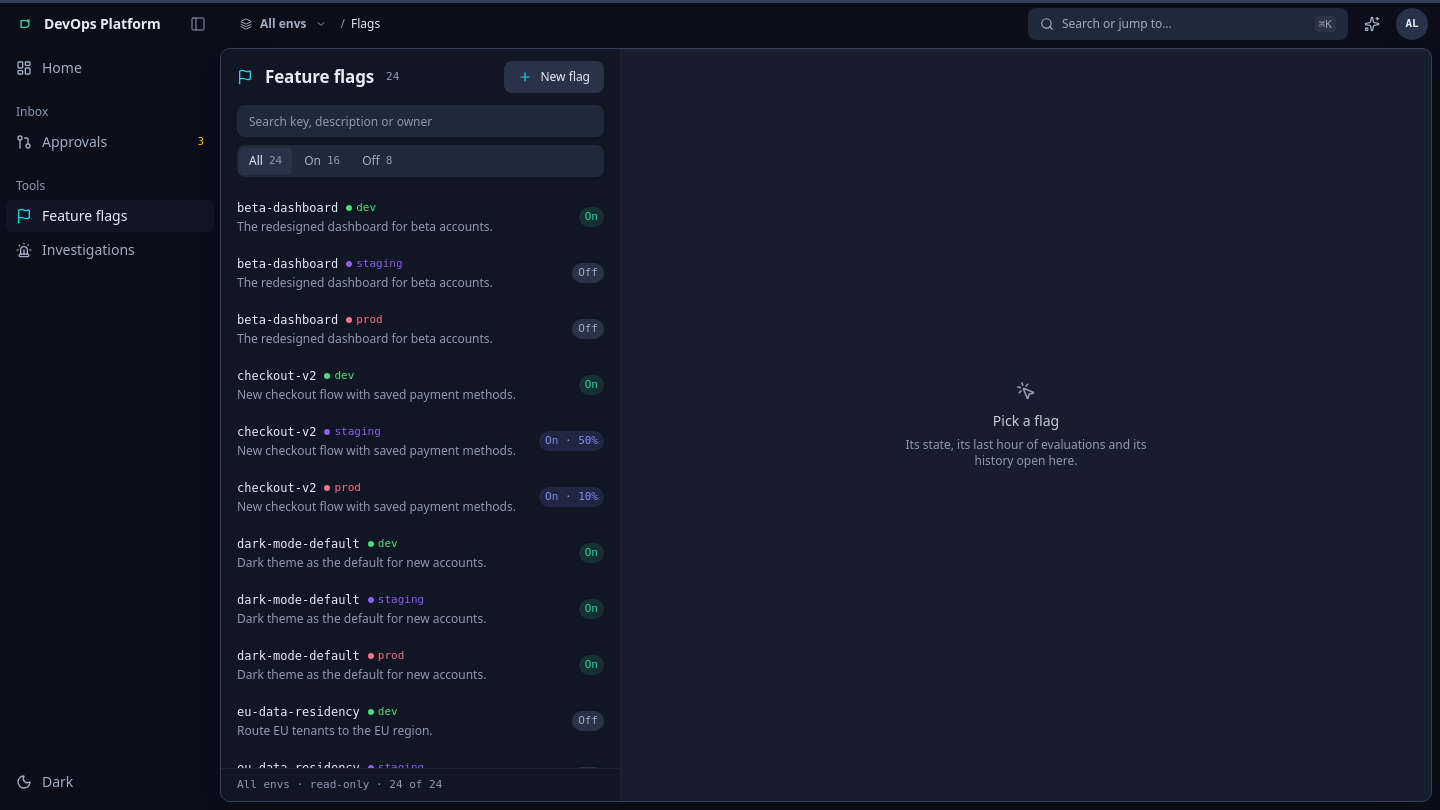
it: the flags list › keeps the search and the state filter in the URL
The width and height of the screenshot is (1440, 810).
Type "dark" into the search field named "Search flags". click: {"x": 420, "y": 121}
box: [237,105,604,137]
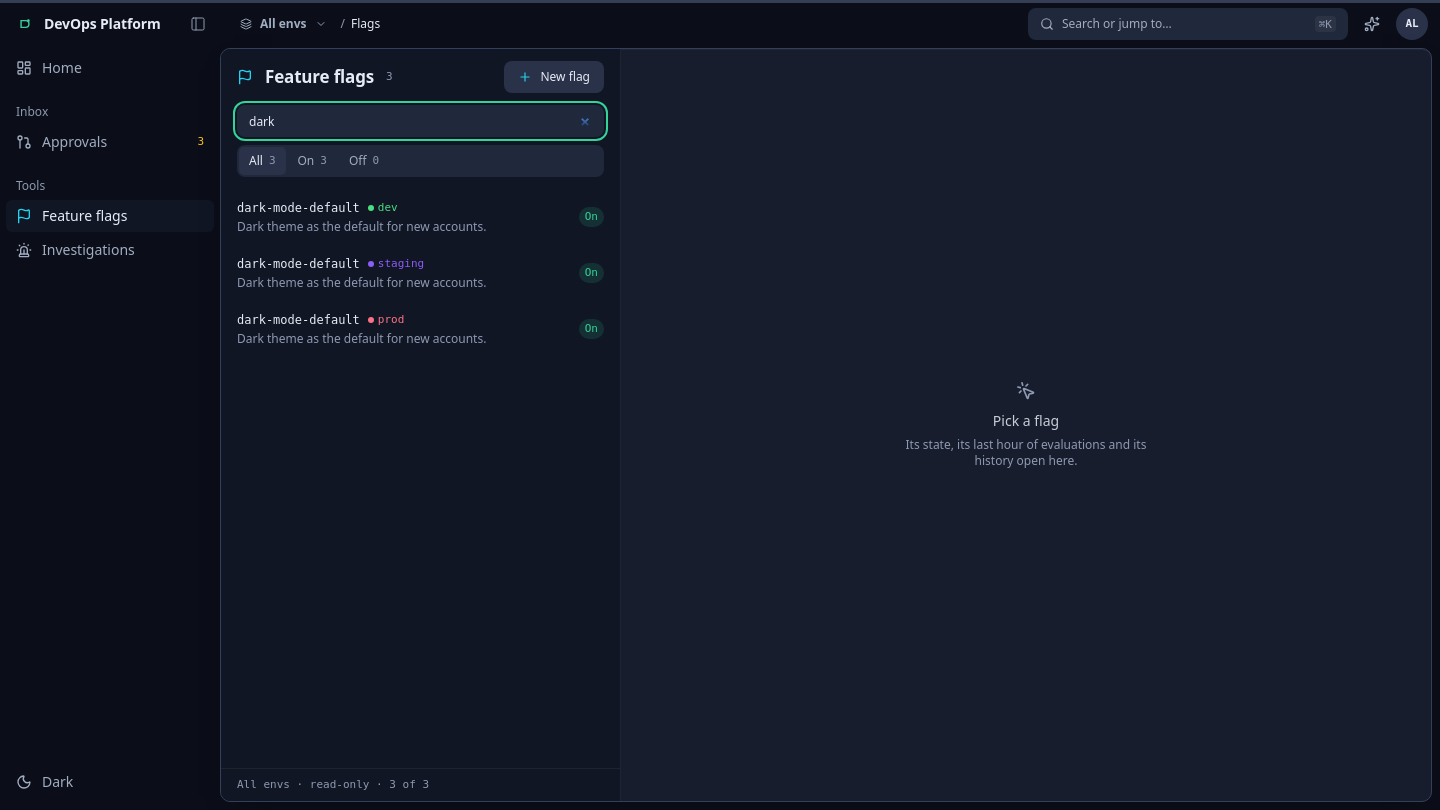
Check: no links "checkout-v2" are shown
Check: the text "dark-mode-default" is shown 3 times, box [237,199,360,217]; [237,255,360,273]; [237,311,360,329]
Clear the search field named "Search flags". click: {"x": 420, "y": 121}
box: [237,105,604,137]
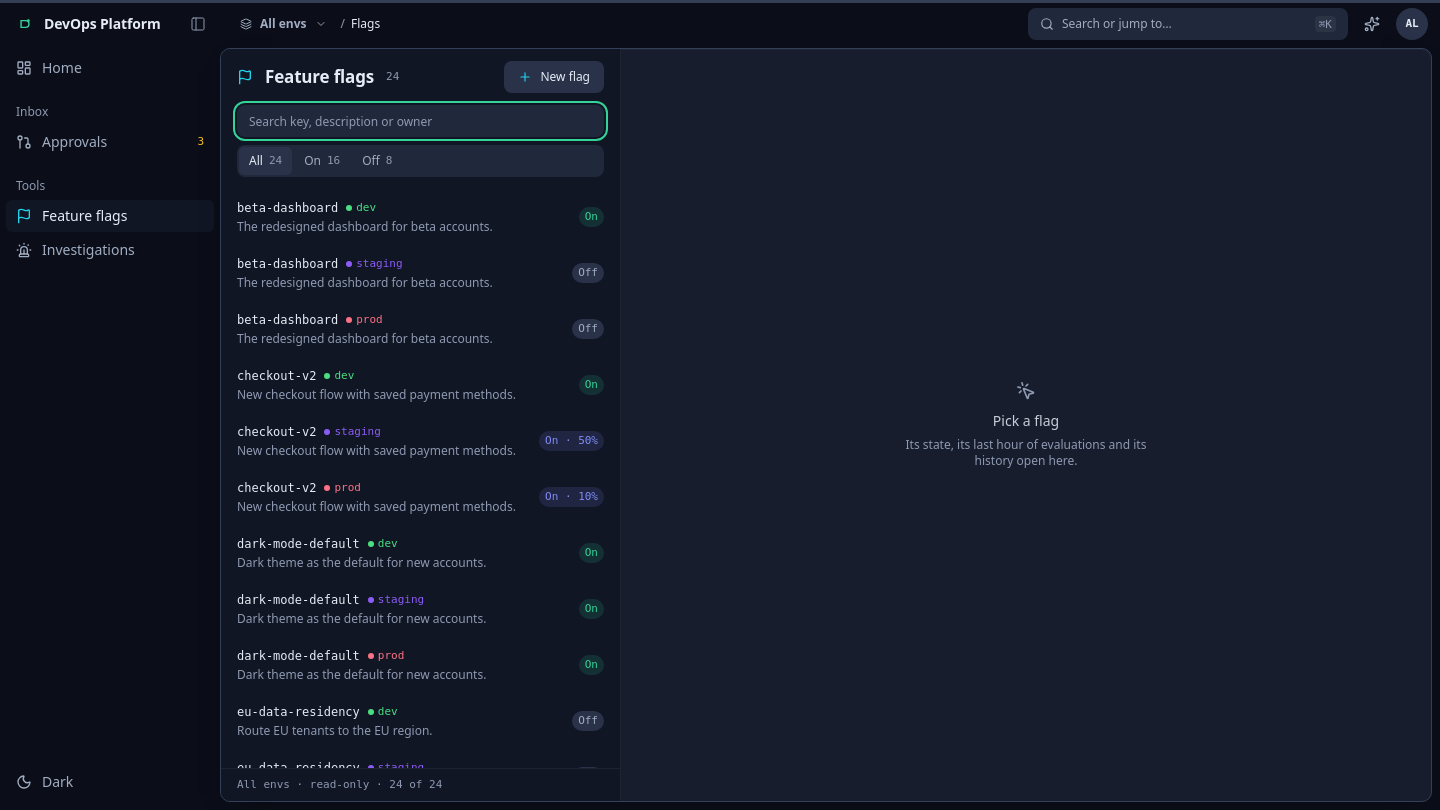
Click the radio button labelled "Off 8". click: {"x": 377, "y": 161}
box: [352,147,402,175]
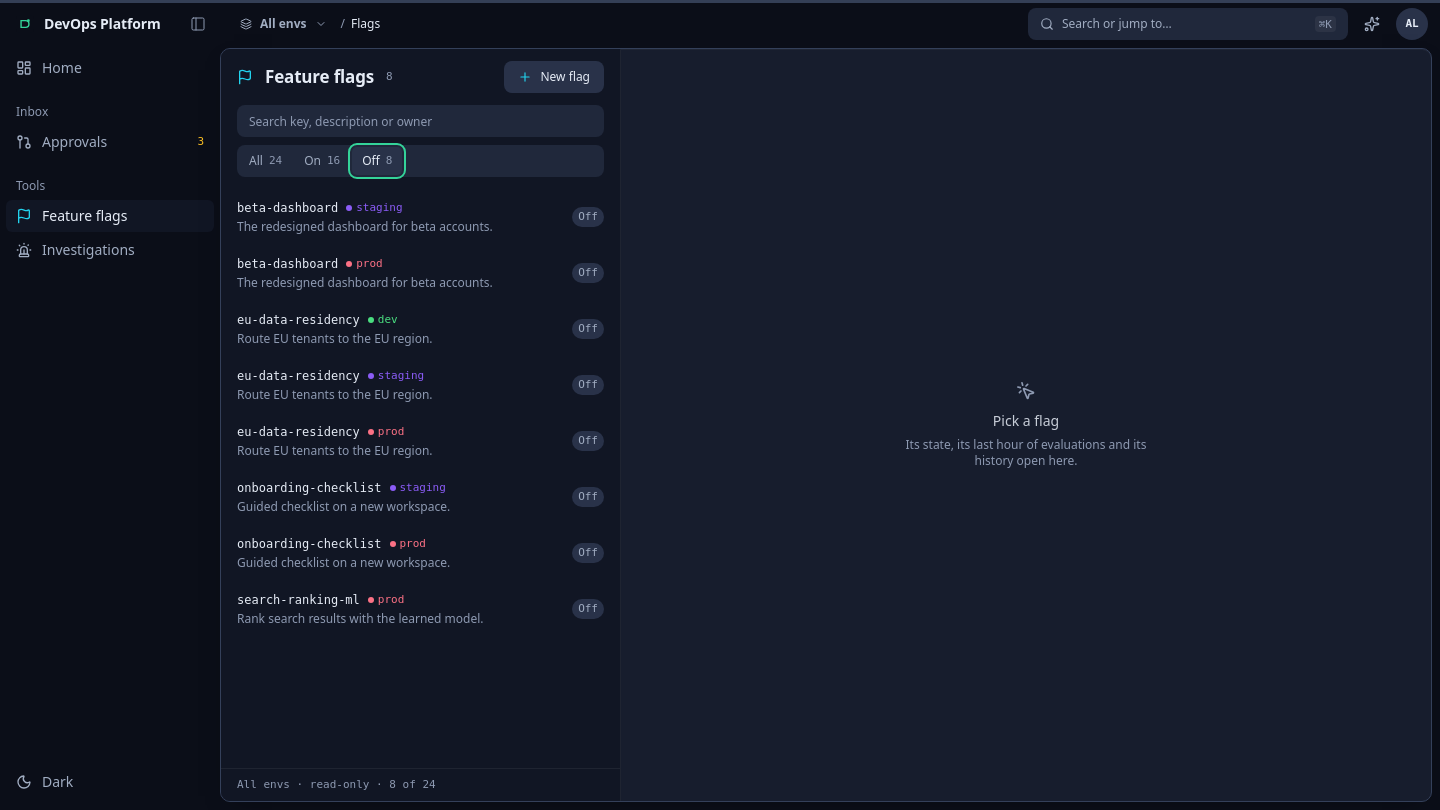
Check: the text "eu-data-residency" is shown 3 times, box [237,311,360,329]; [237,367,360,385]; [237,423,360,441]
